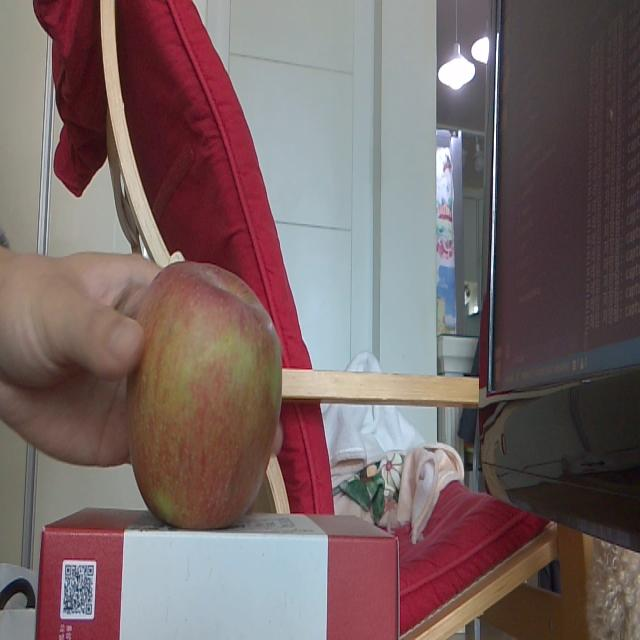apple: (127, 259, 291, 532)
